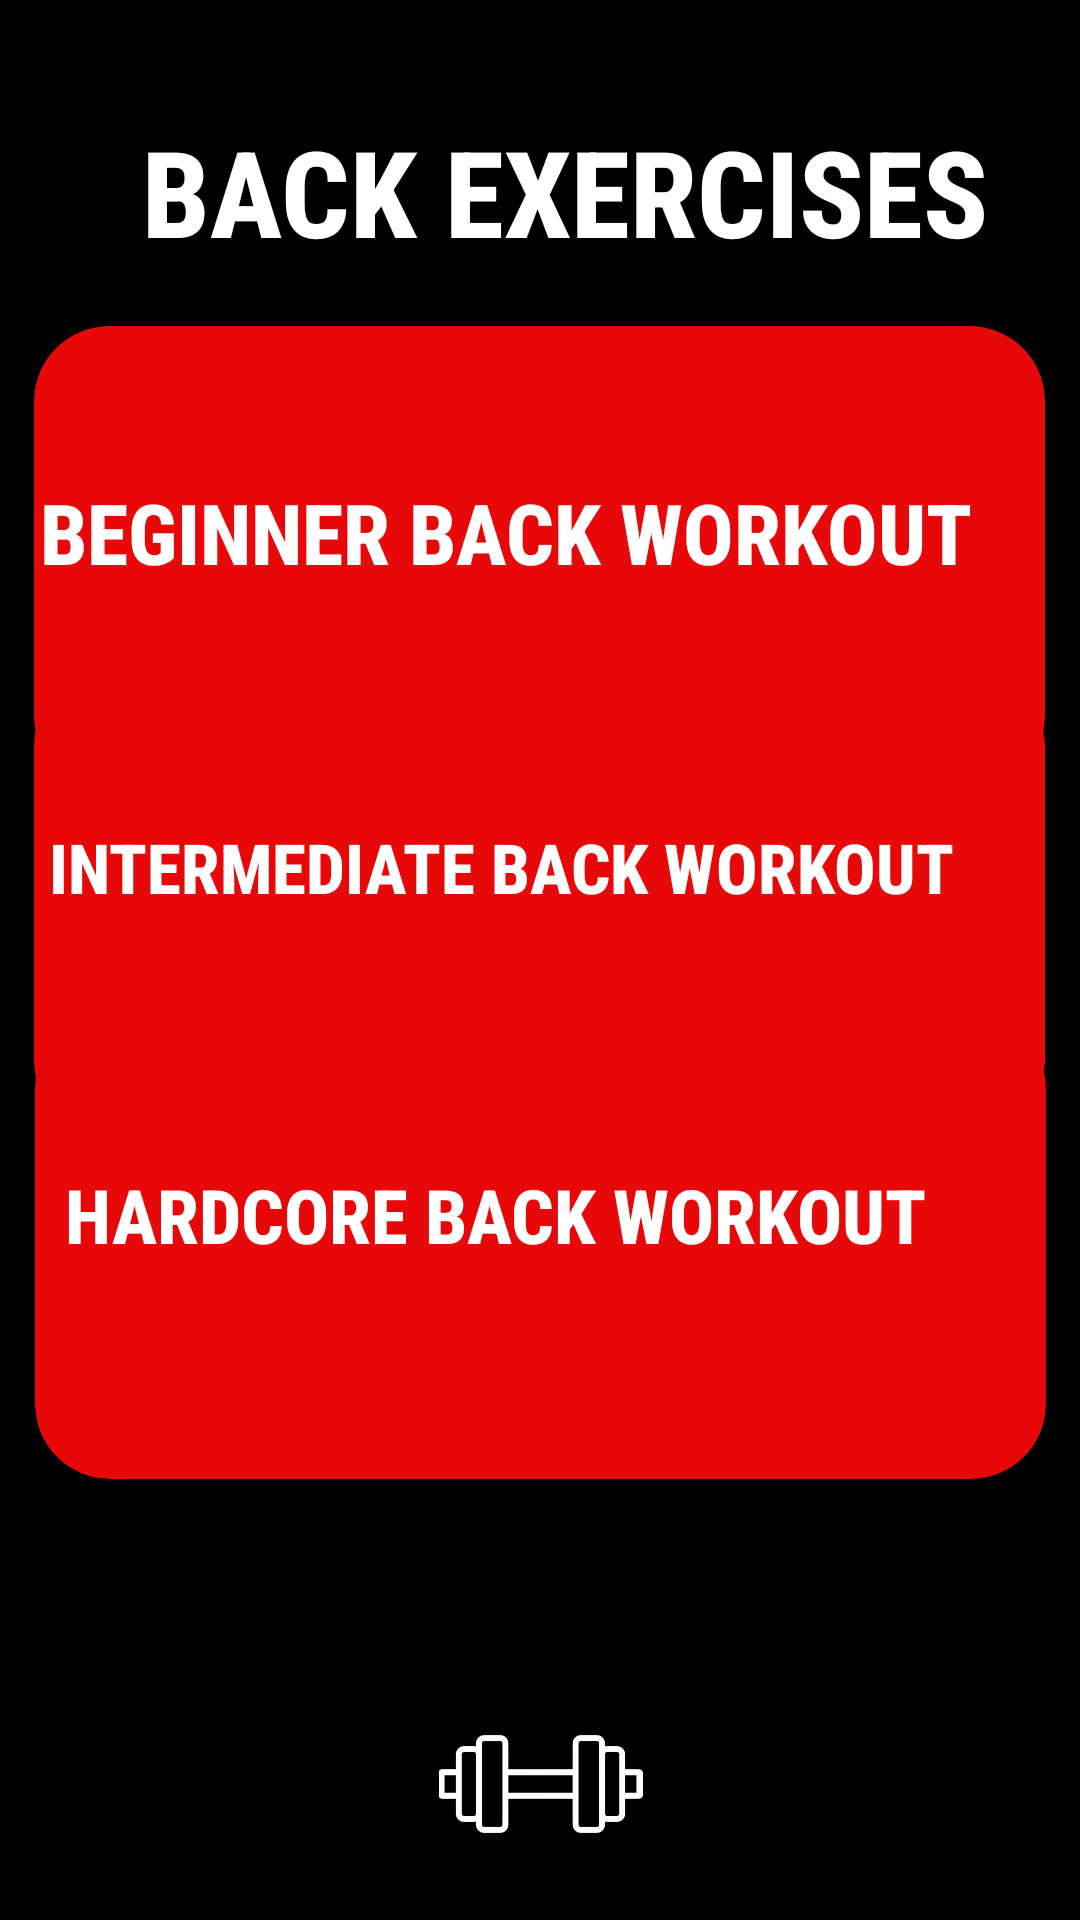

Screen size 1080*1920. Icon name, then its box in pixels as box=[x1, y1, x2, y2]:
imgdumbell: box=[439, 1735, 643, 1833]
